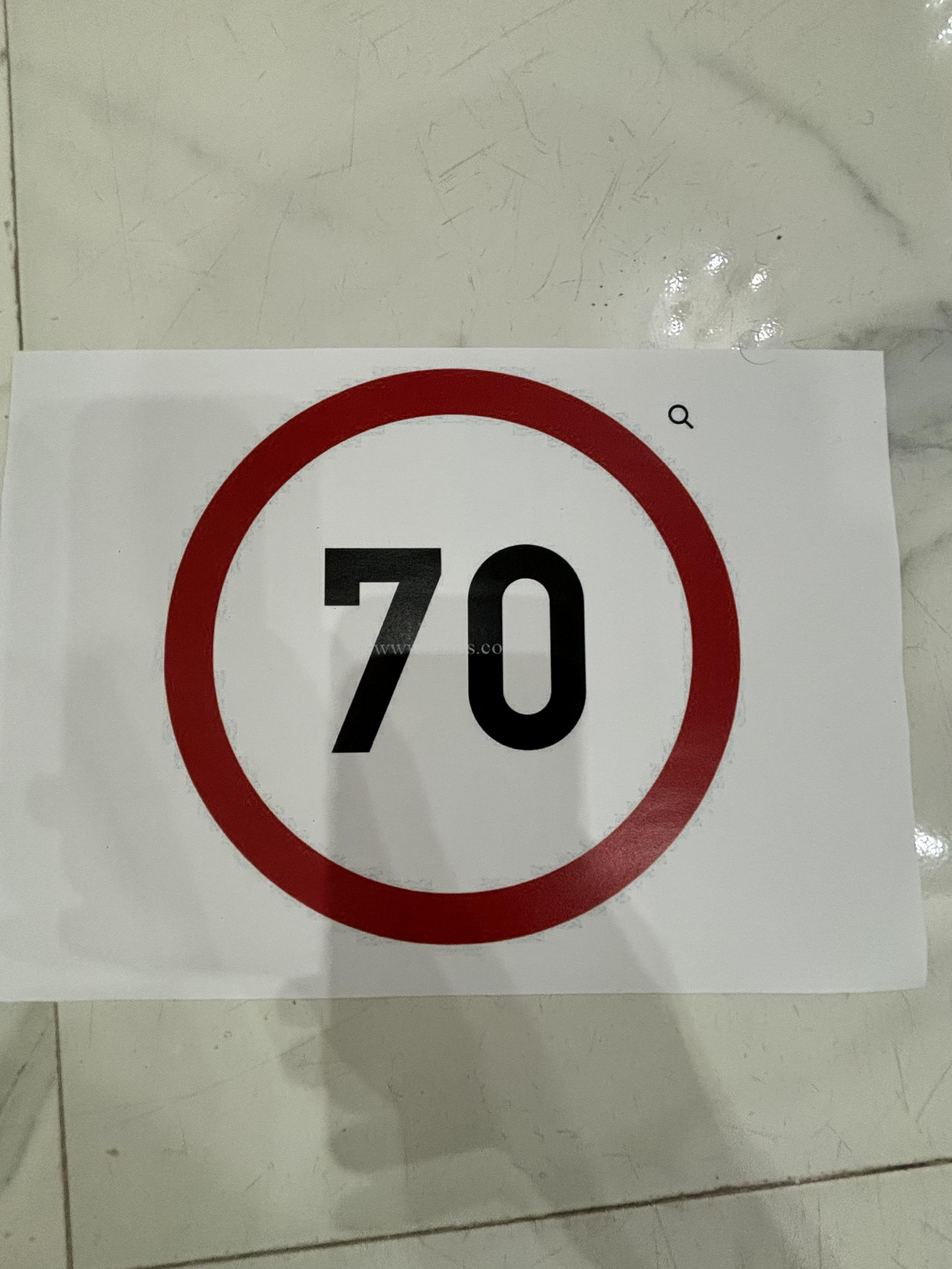70-Speed: (155, 363, 747, 951)
